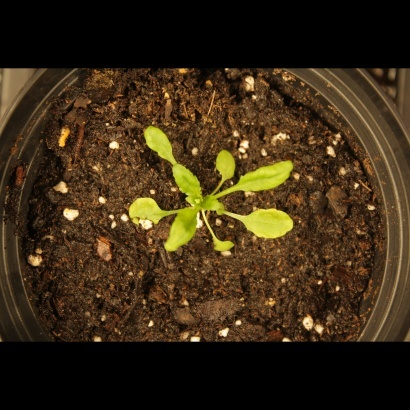leaf: (237, 204, 298, 244), (240, 156, 296, 199), (163, 207, 201, 257), (124, 195, 168, 234), (142, 123, 177, 164), (170, 161, 204, 203), (212, 142, 238, 185), (201, 192, 224, 215), (213, 236, 236, 259)
